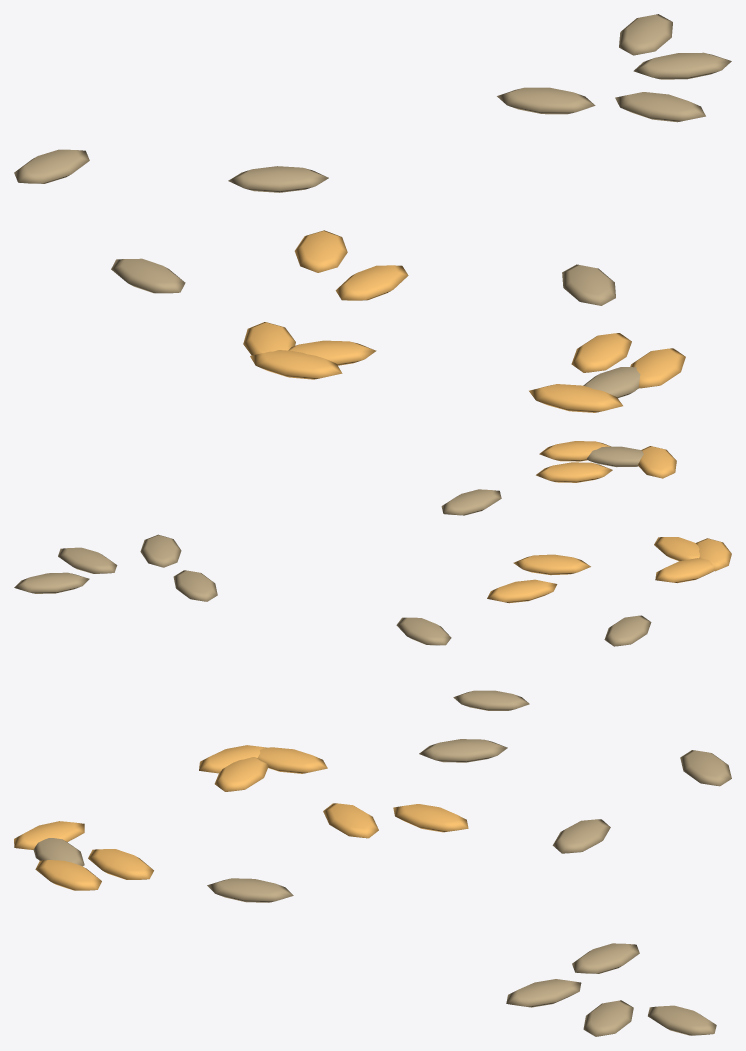
Rendered from layer_autumn_cluster.glb.
3 views of the same model, one above another, from view 1: azimuth 30°, elevation 25°; view 2: azimuth 150°, elevation 25°; view 3: azimuth 270°, elevation 25° (orthographic). The views are drawn at different scales.
Size of the model in its own units: 1.62 by 0.035 by 1.67.
